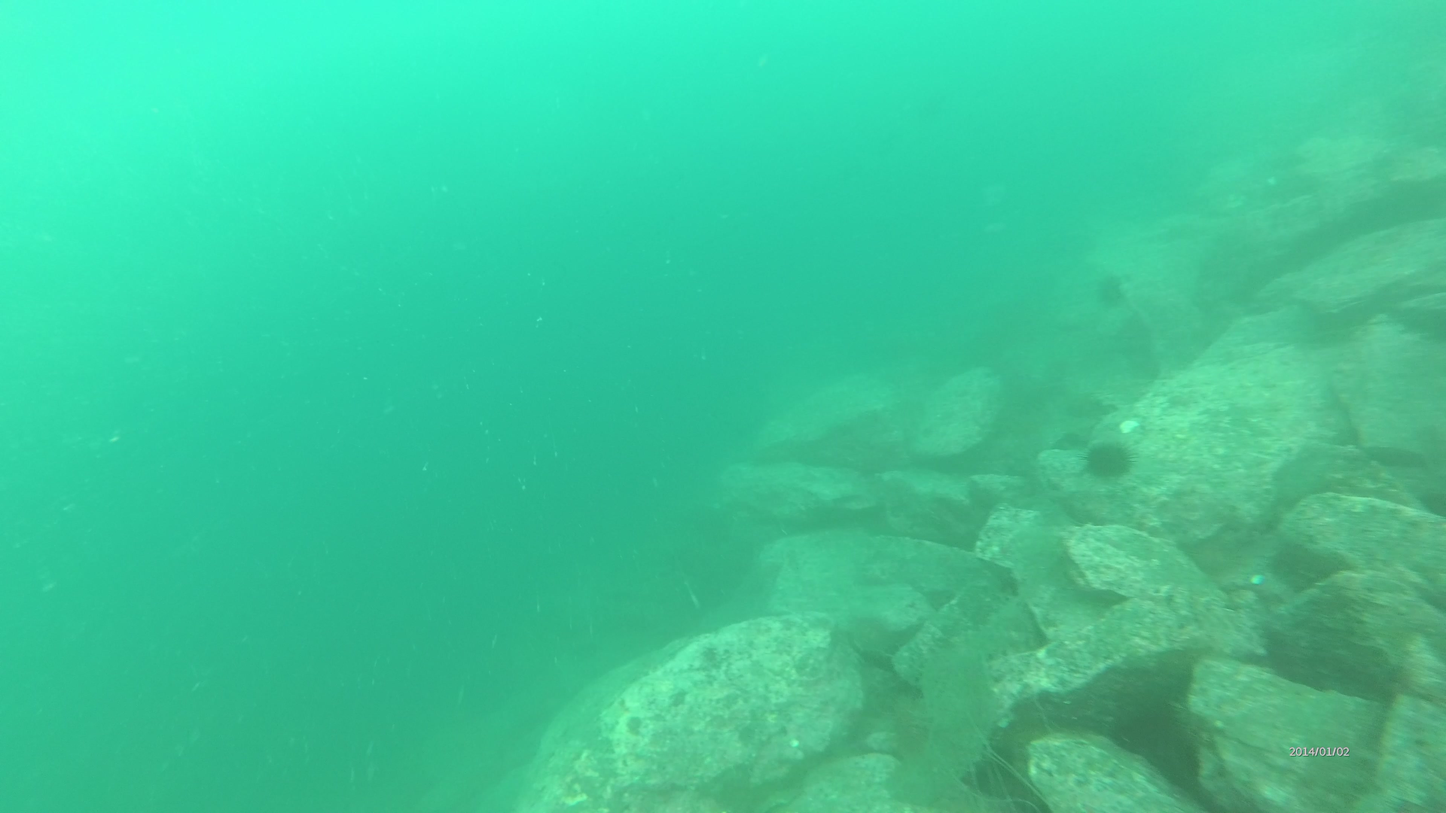starfish: (1081, 435, 1138, 483), (1097, 271, 1127, 312)
